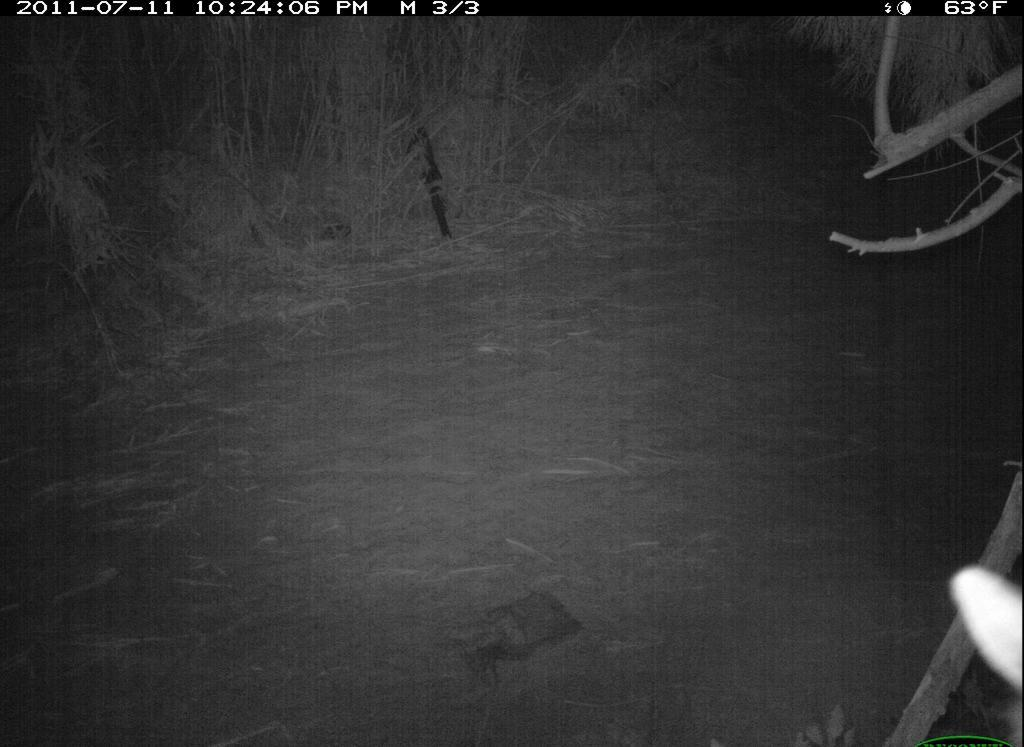raccoon: (929, 559, 1023, 742)
